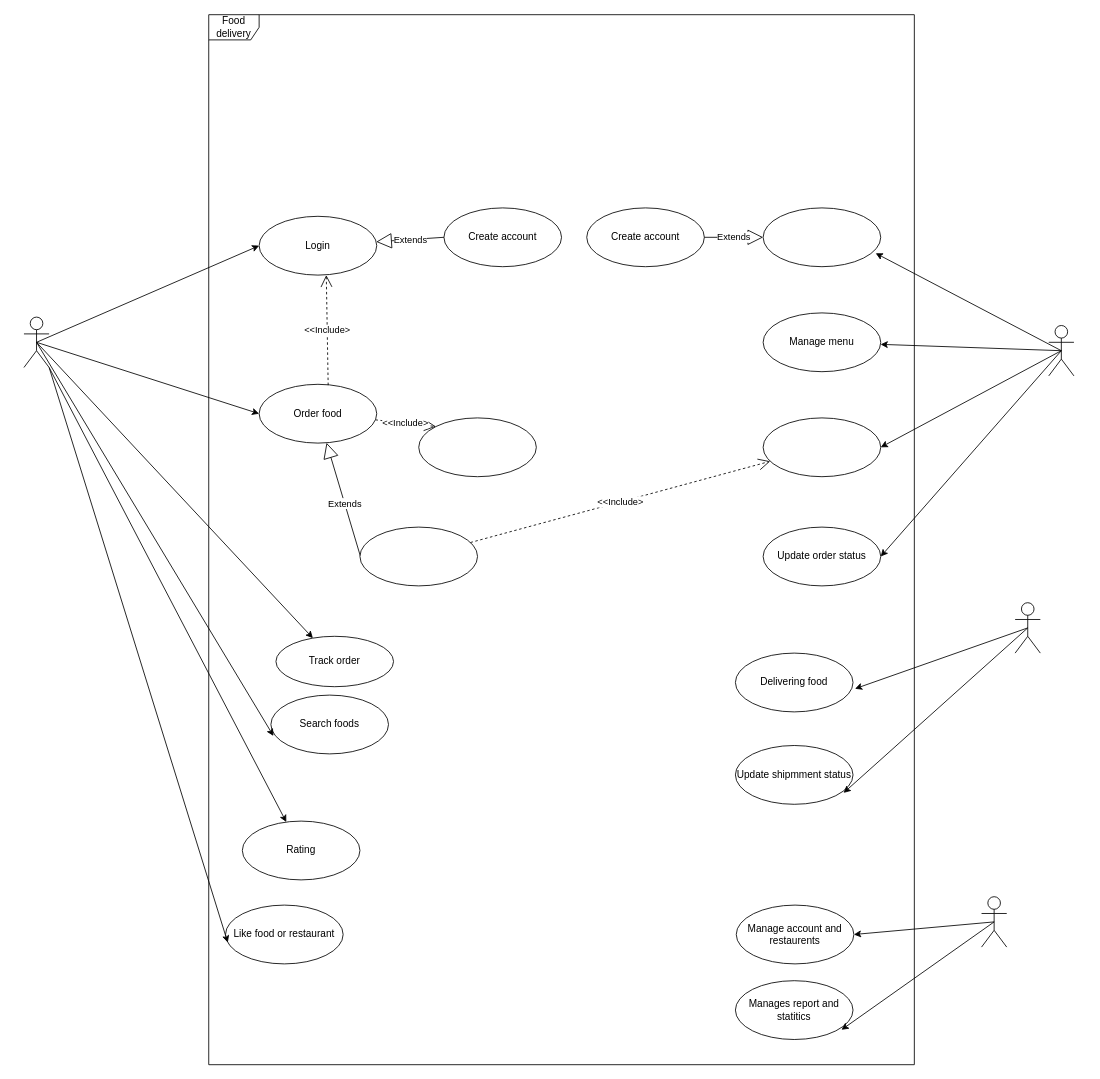
Image size: 1100x1079. Some labels were removed from this diagram. The shapes that lost their labels are listed below. From the top down, each one's centre as x and y in pixels, then its label:
the point at 821,237: Log in
the point at 36,342: Customer
the point at 1061,350: Restaurant
the point at 477,447: Add to cart
the point at 821,447: Receive order
the point at 418,556: Check out
the point at 1027,627: Delivery guy
the point at 994,921: Admin
